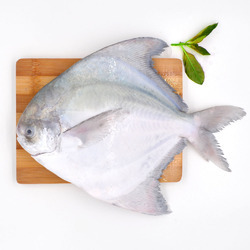Ikan Bawal: (17, 36, 242, 216)
